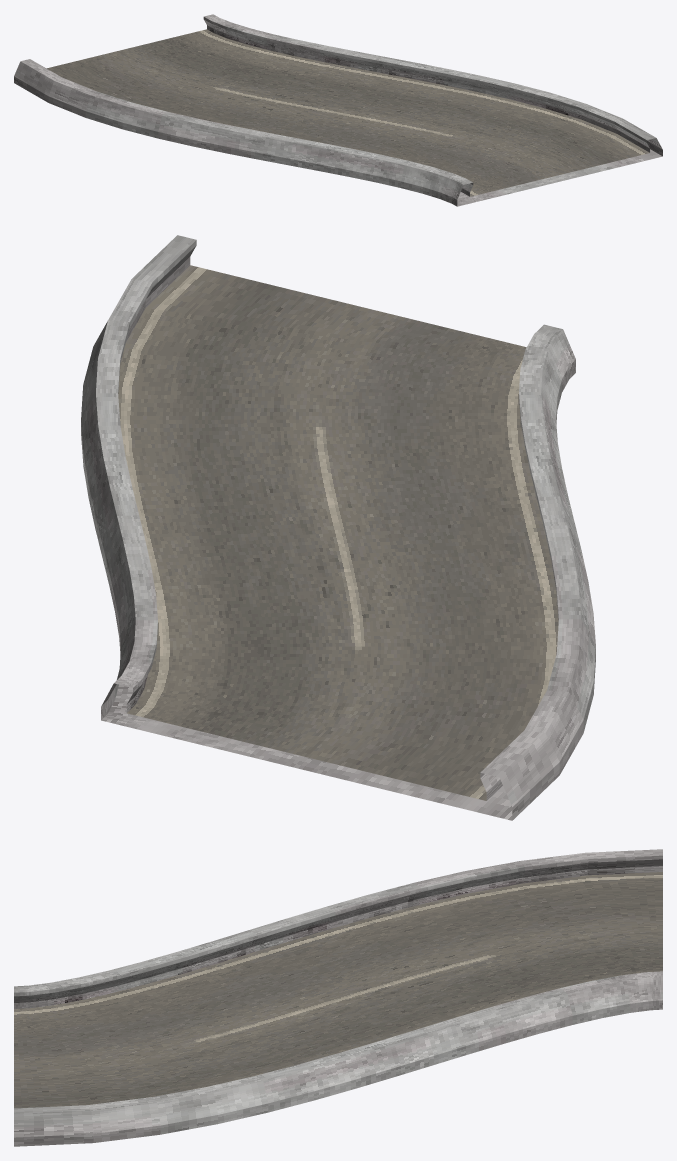
File: road-Chicane-Flat-Flat-Even-Left1-Size2.glb
3 renders of one model, top to bottom at view 1: azimuth 30°, elevation 25°; view 2: azimuth 150°, elevation 25°; view 3: azimuth 270°, elevation 25°, orthographic. The views are drawn at different scales.
Visible parts, largest first — view 1: road-Chicane-Flat-Flat-Even-Left1-Size2; view 2: road-Chicane-Flat-Flat-Even-Left1-Size2; view 3: road-Chicane-Flat-Flat-Even-Left1-Size2.
Part boxes in pixels (x1,y1,x2,y2): road-Chicane-Flat-Flat-Even-Left1-Size2: (14, 14, 662, 206); road-Chicane-Flat-Flat-Even-Left1-Size2: (81, 235, 595, 820); road-Chicane-Flat-Flat-Even-Left1-Size2: (14, 849, 662, 1146).
Bounding box in the file's own units: 2 × 0.0938 × 2.
2 materials, 2 textured.
